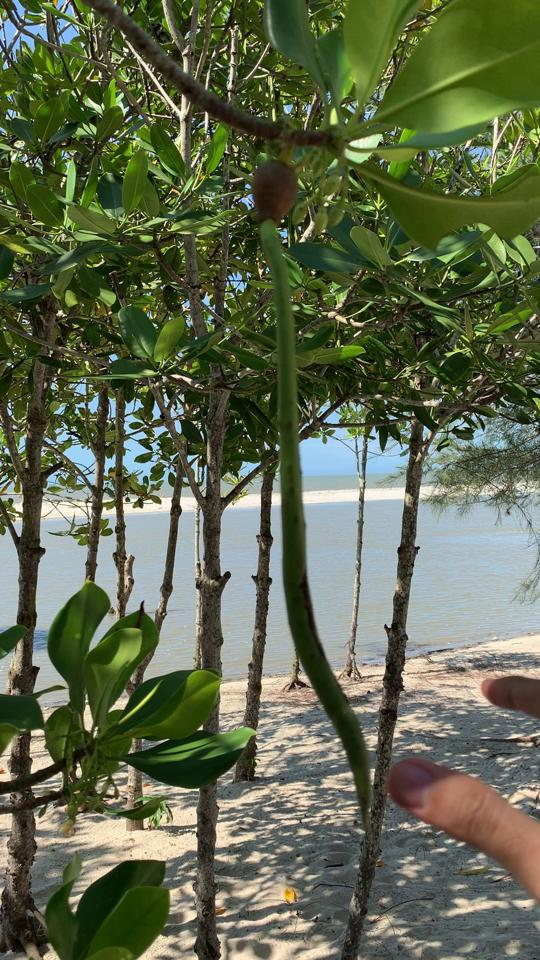setengah matang: (238, 138, 394, 833)
